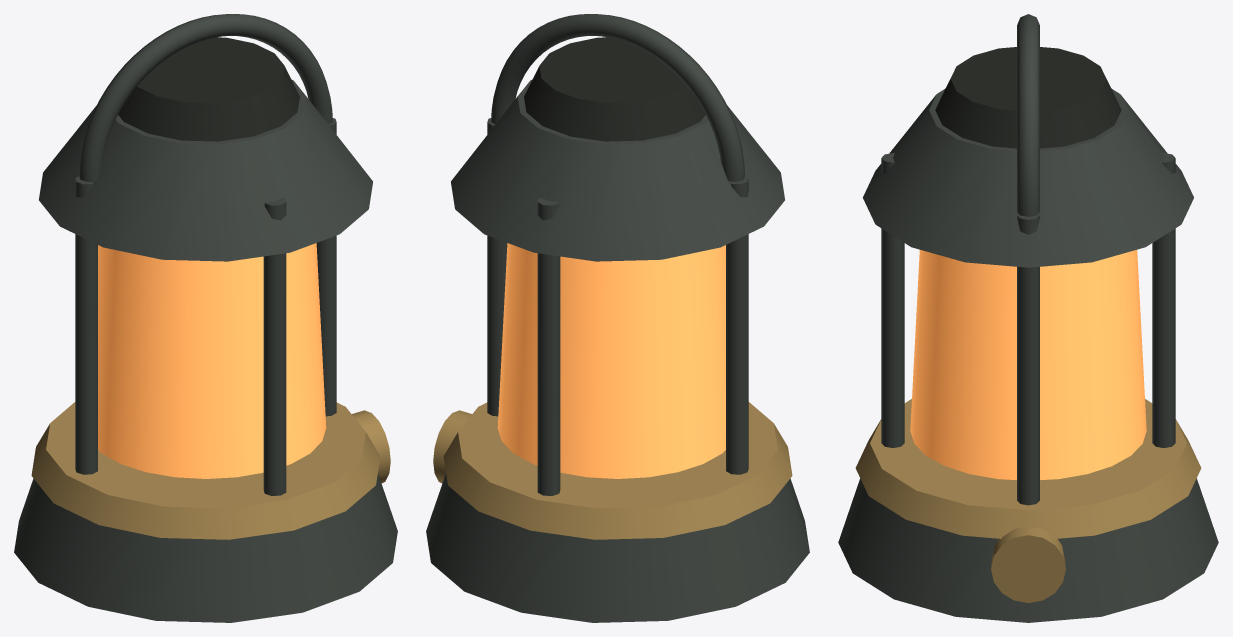
The model's file is camp-lantern.glb.
3 renders of one model, left to right at view 1: azimuth 30°, elevation 25°; view 2: azimuth 150°, elevation 25°; view 3: azimuth 270°, elevation 25°, orthographic.
Bounding box in the file's own units: 0.264 × 0.3945 × 0.264.
